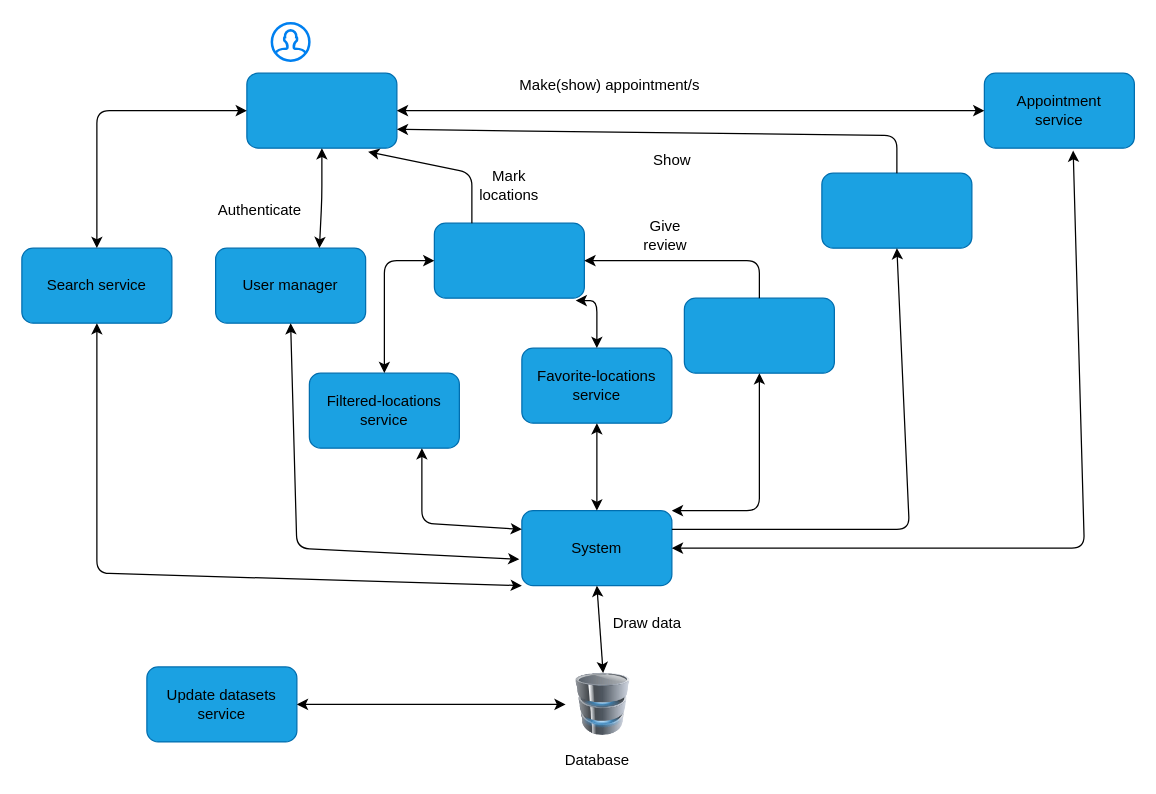
This 1156x794 diagram has some shape labels left out. The shapes that lost their labels are listed below. From the top down, each one's box as (x1, y1, x2, y2) in pixels, then its label:
(246, 72, 397, 148): UI
(821, 172, 972, 248): Category-table service
(433, 222, 584, 298): Navigation Service
(683, 297, 834, 373): Review-locations service
